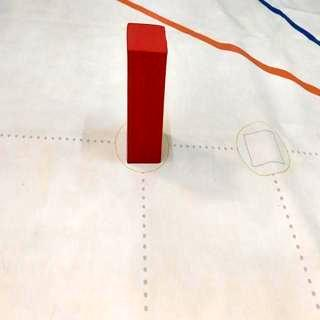redbox: (126, 22, 168, 165)
